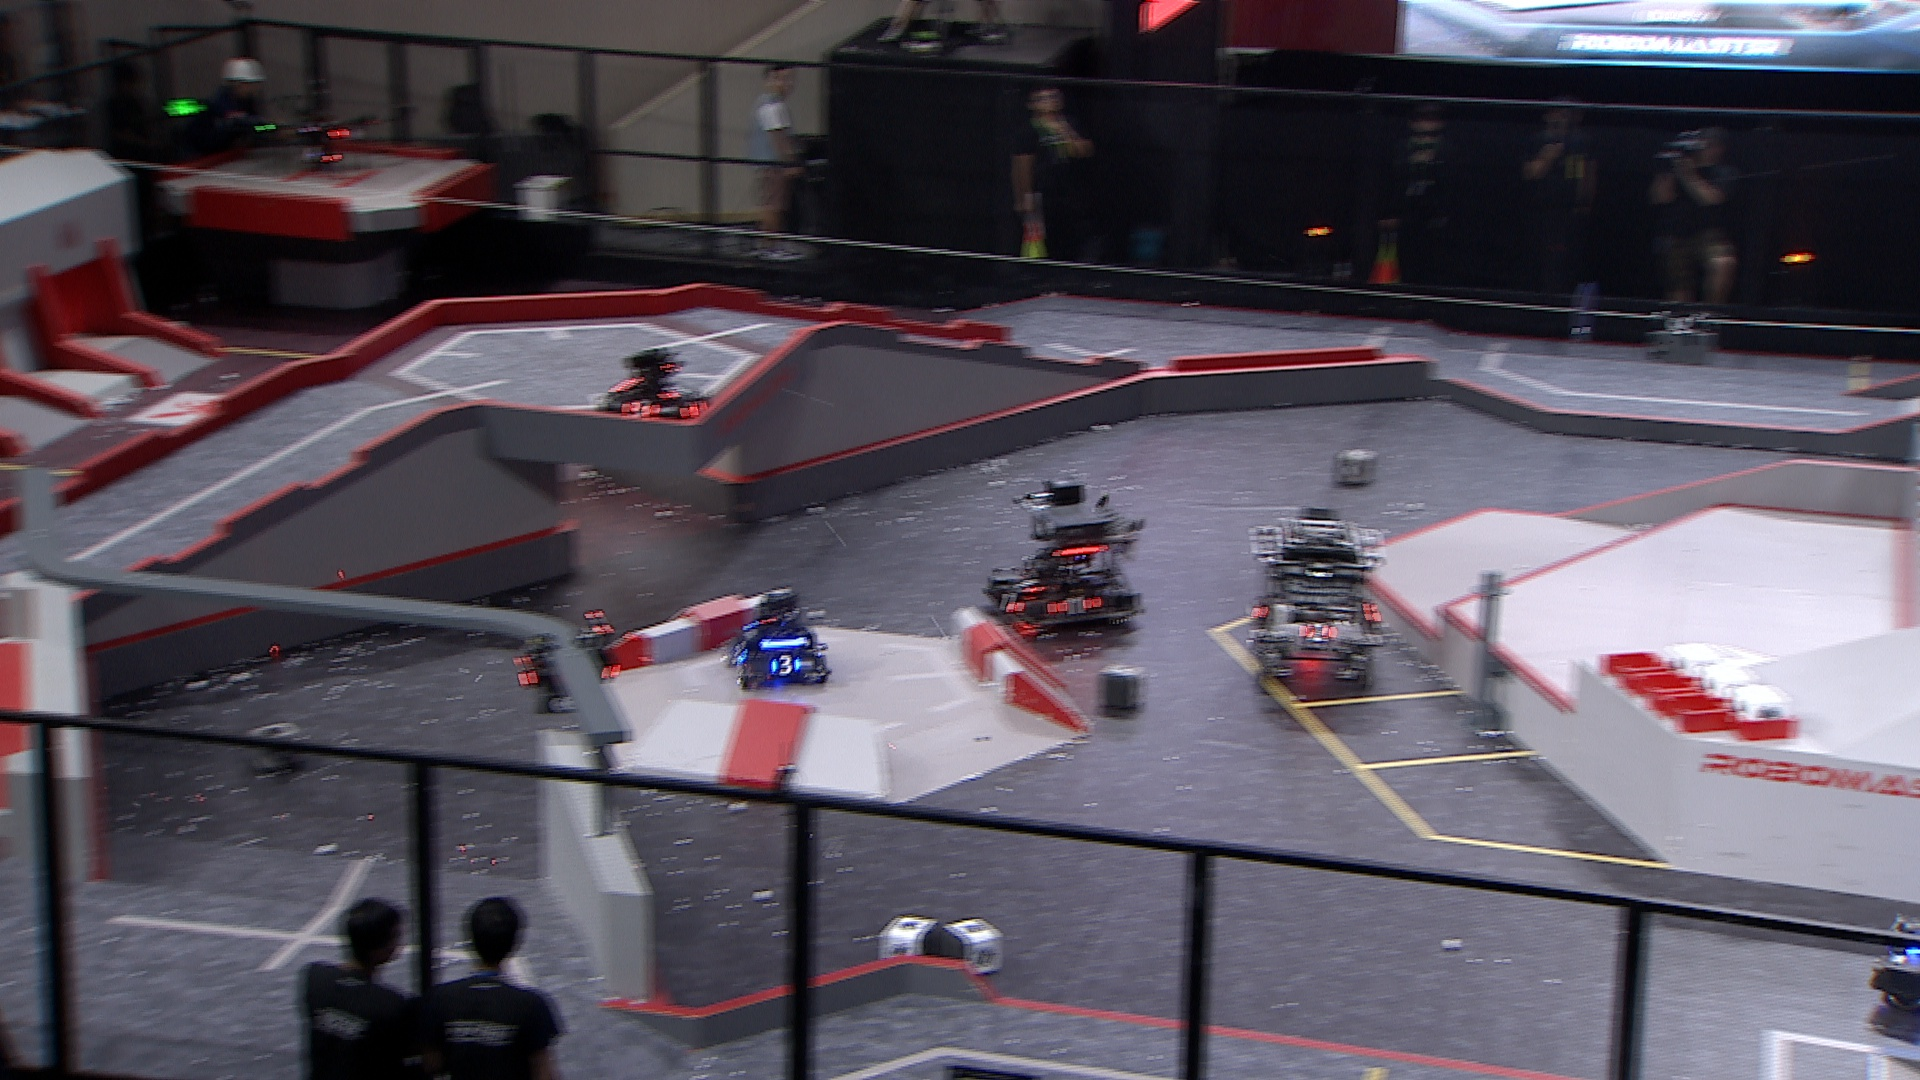armor: (1046, 589, 1102, 618), (765, 651, 803, 680), (512, 647, 538, 688), (1300, 618, 1337, 646), (1006, 568, 1044, 595), (621, 400, 659, 425), (992, 584, 1021, 616), (728, 640, 750, 669), (659, 380, 690, 400), (683, 400, 713, 419)
car: (1244, 509, 1386, 680), (988, 488, 1145, 632), (591, 344, 717, 433), (727, 585, 831, 690), (1871, 889, 1920, 1021)
watcher: (513, 607, 618, 713)
